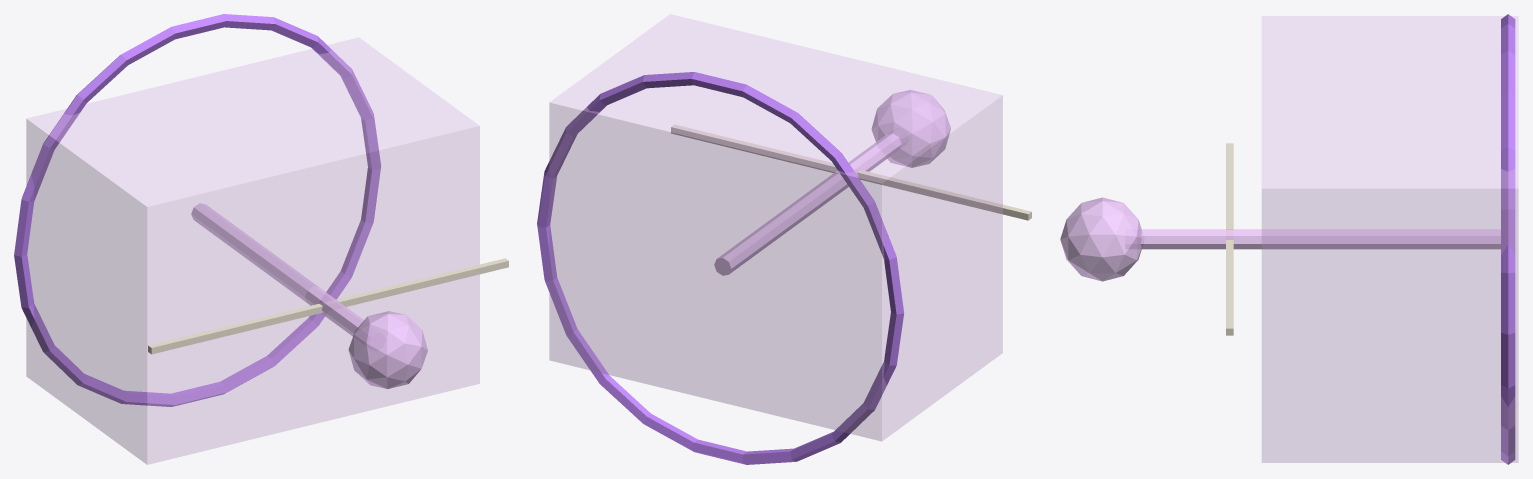
File: 05_dynamic_camera_trigger.glb
3 renders of one model, left to right at view 1: azimuth 30°, elevation 25°; view 2: azimuth 150°, elevation 25°; view 3: azimuth 270°, elevation 25°, orthographic. The views are drawn at different scales.
Parts seen in each view (by area): view 1: camera_trigger_volume, combat_start_ring, focus_target, focus_target_pole, camera_axis; view 2: camera_trigger_volume, combat_start_ring, focus_target, focus_target_pole, camera_axis; view 3: camera_trigger_volume, focus_target_pole, combat_start_ring, focus_target, camera_axis.
Part boxes in pixels (x1,y1,x2,y2): camera_trigger_volume: (26,37,479,464); combat_start_ring: (14,14,380,406); focus_target: (348,311,427,389); focus_target_pole: (191,203,364,336); camera_axis: (148,258,508,354); camera_trigger_volume: (549,14,1002,441); combat_start_ring: (537,72,904,464); focus_target: (871,90,950,167); focus_target_pole: (714,133,901,275); camera_axis: (671,124,1031,220); camera_trigger_volume: (1262,16,1518,462); focus_target_pole: (1141,229,1500,249); combat_start_ring: (1501,14,1515,464); focus_target: (1060,197,1141,281); camera_axis: (1226,143,1233,335).
Size of the model in its own units: 1.49 by 1.47 by 1.51.
